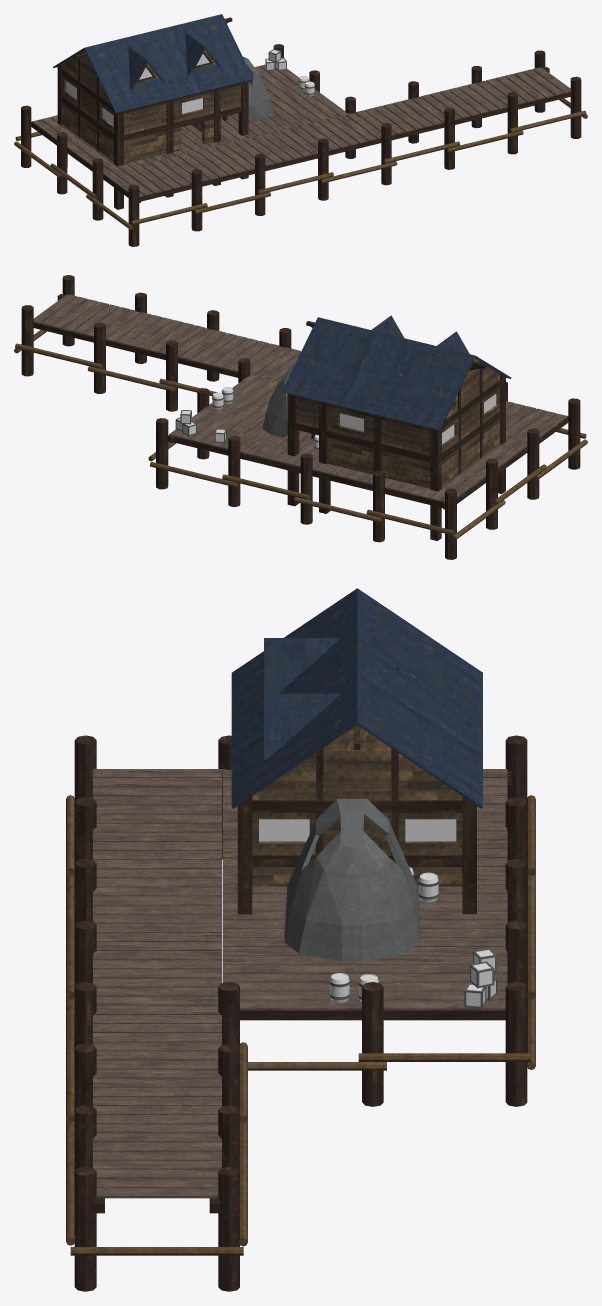
Rendered from Dom handlarza.fbx.
3 views of the same model, one above another, from view 1: azimuth 30°, elevation 25°; view 2: azimuth 150°, elevation 25°; view 3: azimuth 270°, elevation 25° (orthographic). The views are drawn at different scales.
Visible parts, largest first — view 1: Deski, Plane.012, Słupy, Deski.001, Cylinder.014, F2.001, F1.001, Cube.024, Plane.011, Arrmor Dziób, Plane.015, D_Pilar_1.008 (+9 smaller); view 2: Plane.012, Słupy, Deski, Deski.001, Cylinder.014, F1.001, F2.001, Cube.024, Arrmor Dziób, D_Pilar_3.010, D_Pilar_4.002, Plane.015 (+9 smaller); view 3: Deski, Plane.012, Słupy, Deski.001, Arrmor Dziób, Cylinder.014, Plane.014, Plane.011, F2.001, Cube.024, D_Pilar_1.012, D_Pilar_1.014 (+6 smaller).
Part boxes in pixels (x1,y1,x2,y2): Deski: [103, 67, 570, 197]; Plane.012: [53, 14, 253, 113]; Słupy: [21, 44, 581, 246]; Deski.001: [32, 64, 348, 174]; Cylinder.014: [14, 98, 587, 229]; F2.001: [62, 75, 241, 134]; F1.001: [62, 102, 213, 163]; Cube.024: [31, 67, 570, 202]; Plane.011: [128, 32, 221, 89]; Arrmor Dziób: [242, 56, 273, 121]; Plane.015: [63, 50, 109, 102]; D_Pilar_1.008: [114, 111, 123, 209]; Plane.012: [282, 317, 511, 430]; Słupy: [21, 275, 580, 559]; Deski: [33, 294, 567, 441]; Deski.001: [169, 375, 527, 502]; Cylinder.014: [14, 330, 587, 540]; F1.001: [327, 418, 500, 488]; F2.001: [296, 387, 500, 455]; Cube.024: [33, 294, 568, 509]; Arrmor Dziób: [262, 364, 294, 437]; D_Pilar_3.010: [430, 428, 441, 540]; D_Pilar_4.002: [287, 394, 299, 506]; Plane.015: [446, 359, 499, 418]; Deski: [93, 769, 221, 1198]; Plane.012: [231, 588, 482, 808]; Słupy: [74, 735, 527, 1291]; Deski.001: [222, 769, 507, 1010]; Arrmor Dziób: [284, 799, 420, 961]; Cylinder.014: [66, 795, 535, 1255]; Plane.014: [252, 725, 462, 800]; Plane.011: [264, 638, 340, 760]; F2.001: [252, 812, 462, 854]; Cube.024: [90, 771, 511, 1213]; D_Pilar_1.012: [252, 800, 462, 812]; D_Pilar_1.014: [237, 796, 252, 914].
Bounding box in the file's own units: 4172 × 1241 × 1851.
